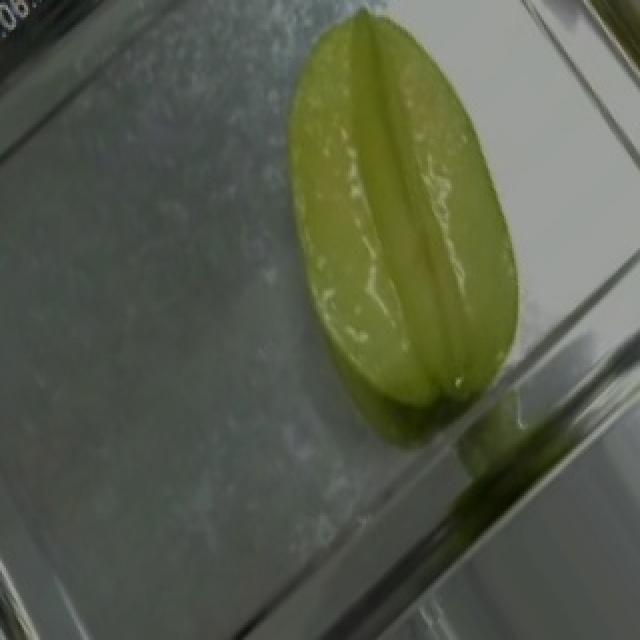fruit: (222, 0, 580, 389)
